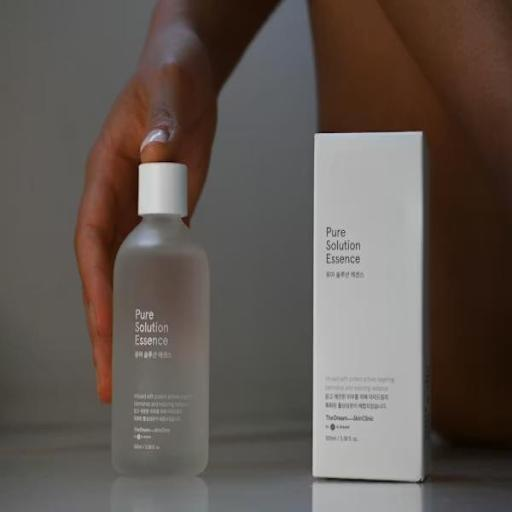bottle: (106, 155, 220, 494)
